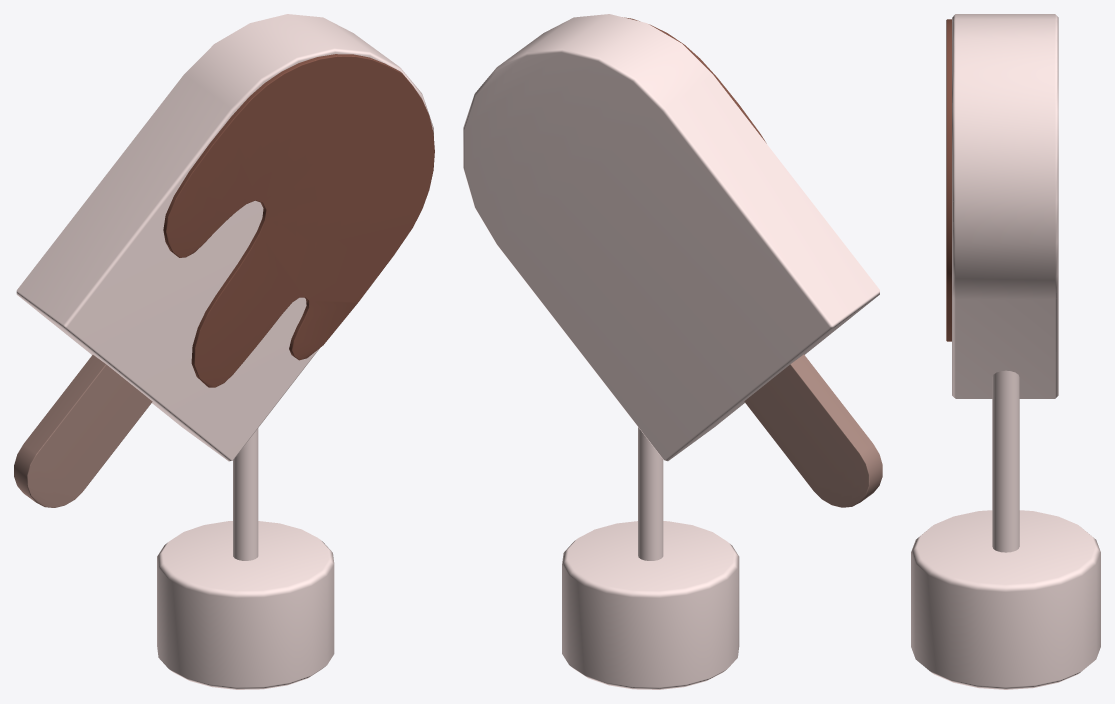
The model's file is City_19_Ice_Cream_Figure_2.glb.
The picture shows the model from 3 angles, left to right: view 1: azimuth 30°, elevation 25°; view 2: azimuth 150°, elevation 25°; view 3: azimuth 270°, elevation 25°; orthographic projection. The views are drawn at different scales.
Visible parts, largest first — view 1: City_19_Ice_Cream_Figure_2; view 2: City_19_Ice_Cream_Figure_2; view 3: City_19_Ice_Cream_Figure_2.
Part boxes in pixels (box(x1,y1,x2,y2)): City_19_Ice_Cream_Figure_2: box(14, 14, 434, 689); City_19_Ice_Cream_Figure_2: box(463, 14, 882, 689); City_19_Ice_Cream_Figure_2: box(911, 14, 1100, 689).
Bounding box in the file's own units: 0.3854 × 0.5741 × 0.1526.
Materials: 1 (1 with a texture image).
